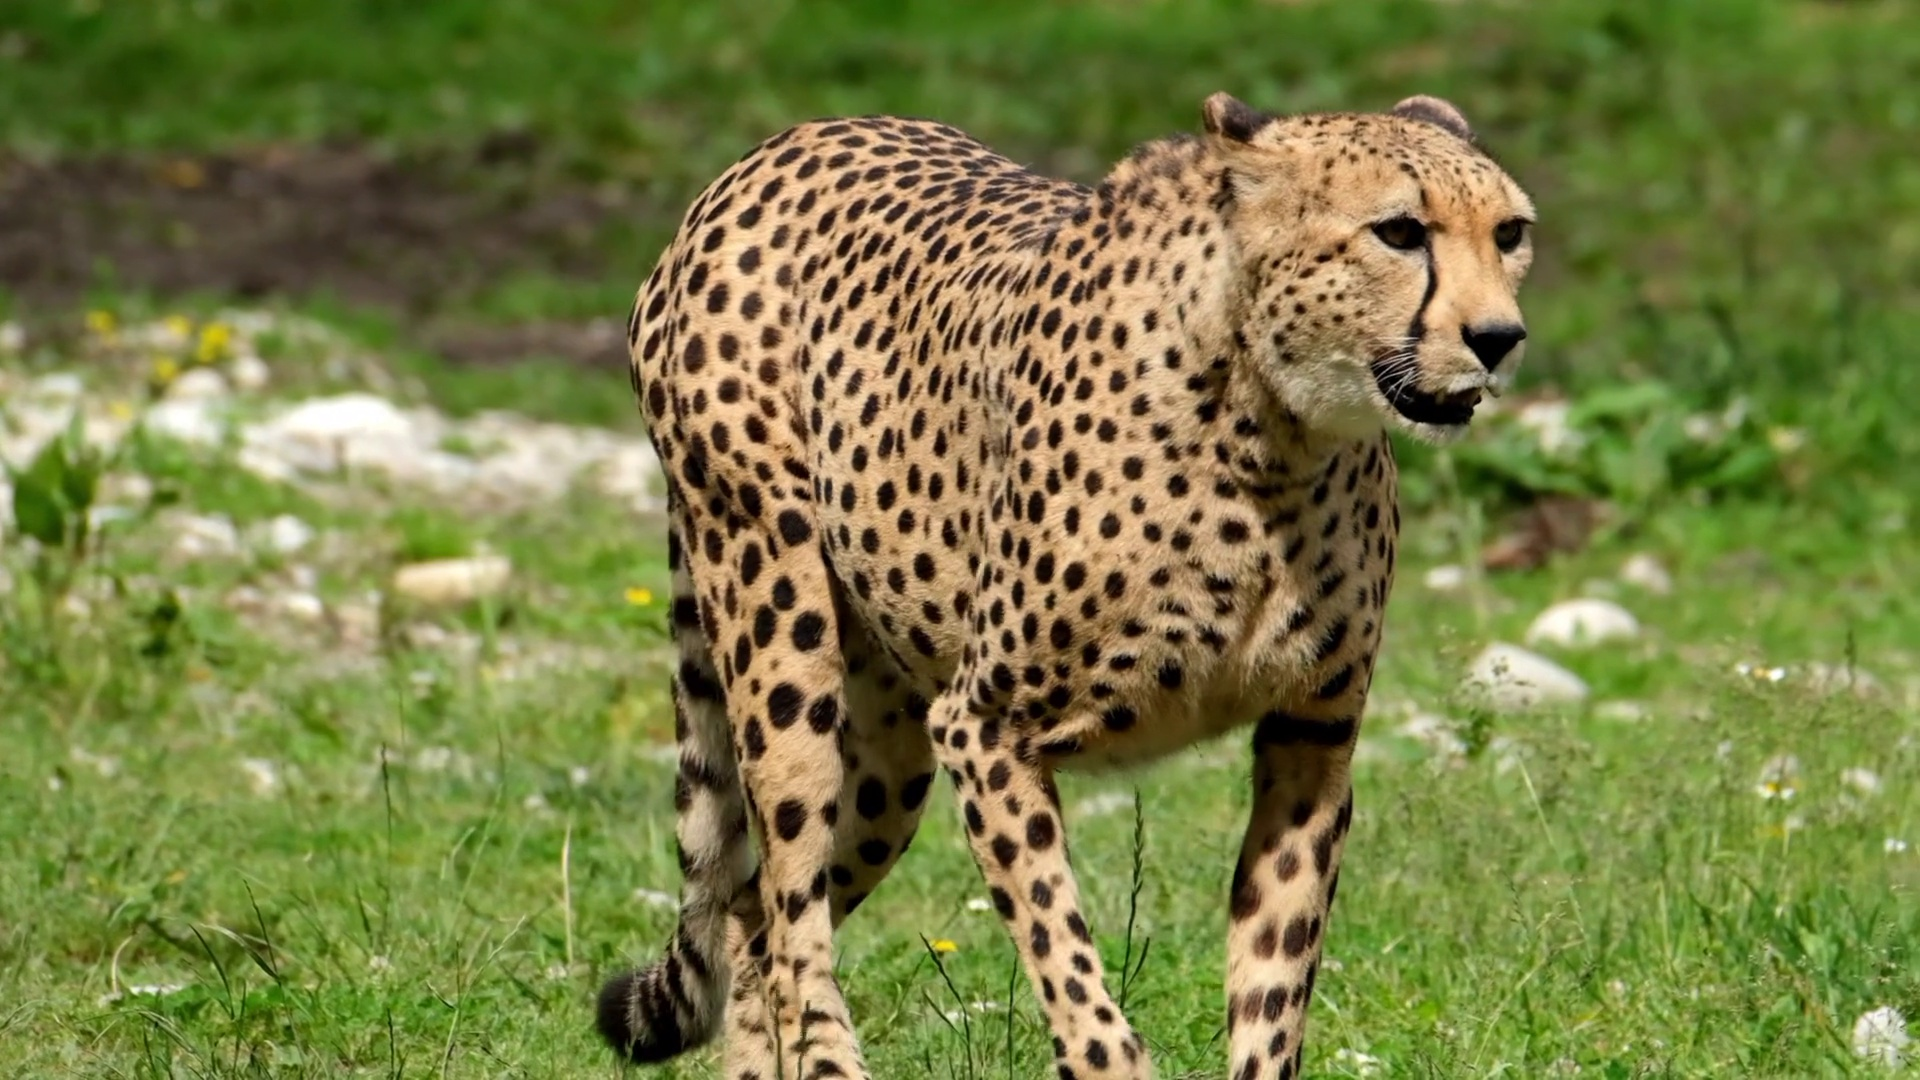Cheetah: (587, 90, 1542, 1080)
